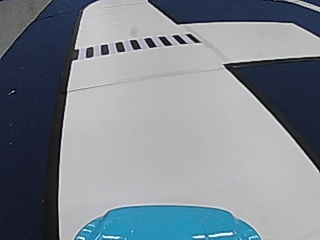CrossWalk: (73, 32, 197, 58)
